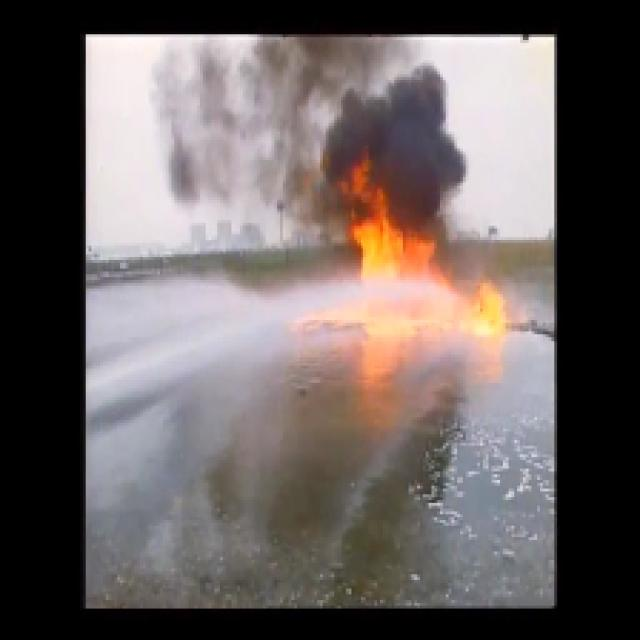fire: (344, 215, 444, 274)
smoke: (138, 40, 458, 179)
